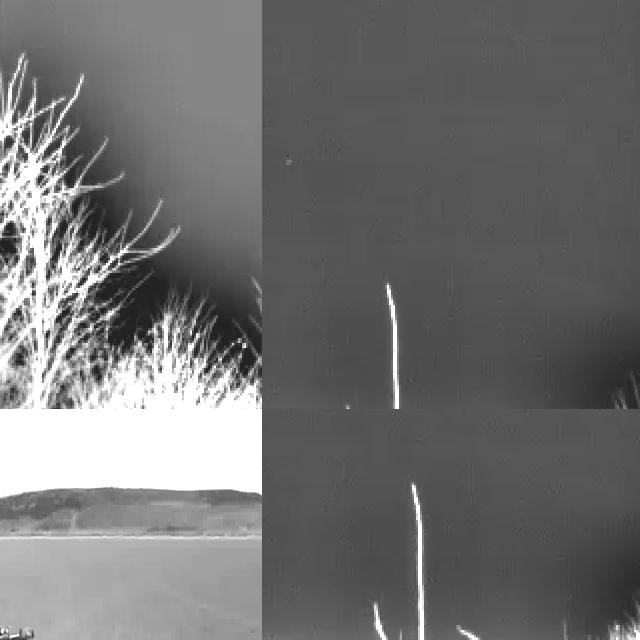0: (282, 153, 302, 175)
drone: (0, 616, 35, 640)
